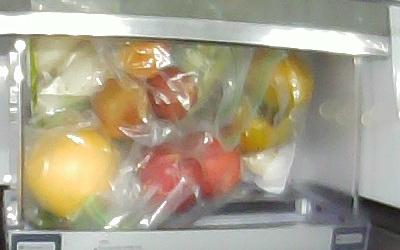apple_vinyl: (133, 145, 205, 215), (172, 130, 243, 199)
grapefruit_vinyl: (28, 122, 120, 217)
persimmon_vinyl: (242, 50, 314, 112), (222, 95, 297, 154)
prune_vinyl: (94, 78, 149, 138), (144, 67, 197, 122), (117, 39, 168, 79)
